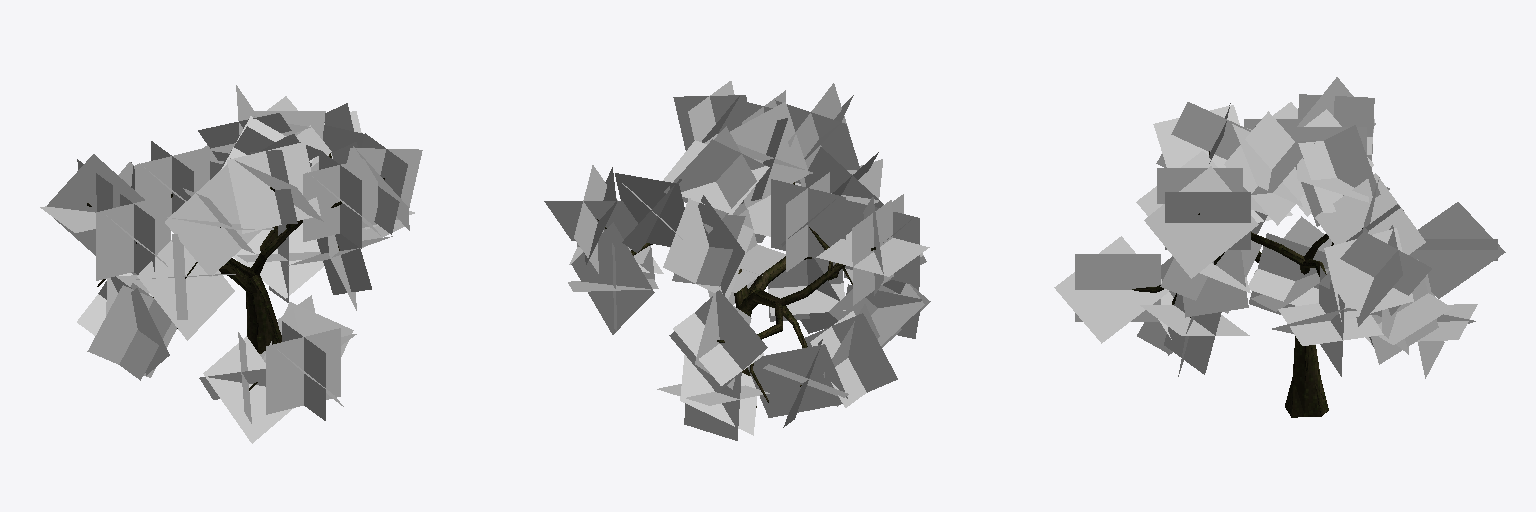
3 views of the same model, side by side, from view 1: azimuth 30°, elevation 25°; view 2: azimuth 150°, elevation 25°; view 3: azimuth 270°, elevation 25° (orthographic).
Visible parts, largest first — view 1: leaves, Mesh_tree; view 2: leaves, Mesh_tree; view 3: leaves, Mesh_tree.
Part boxes in pixels (bbox=[...]): leaves: bbox=[40, 85, 422, 443]; Mesh_tree: bbox=[87, 153, 384, 390]; leaves: bbox=[544, 81, 930, 440]; Mesh_tree: bbox=[597, 182, 875, 407]; leaves: bbox=[1054, 77, 1505, 378]; Mesh_tree: bbox=[1132, 151, 1362, 417].
Size of the model in its own units: 7.12 by 5.76 by 8.14.
2 materials, 1 textured.